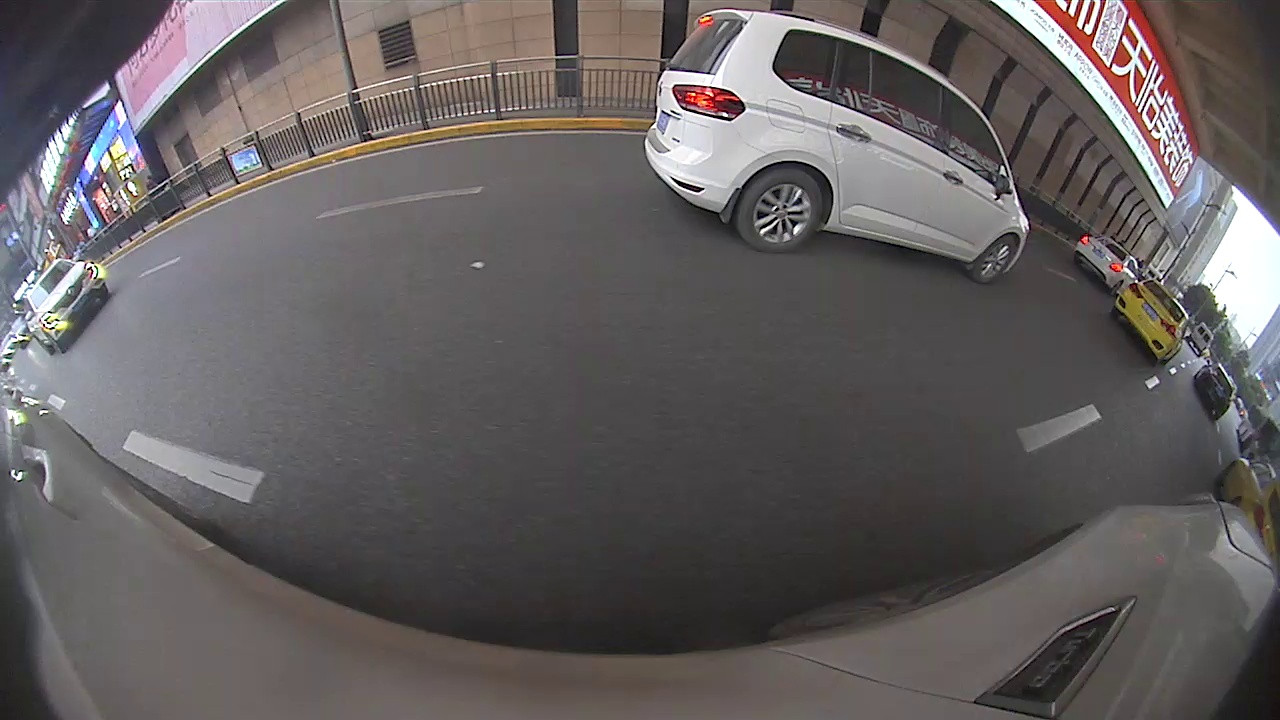car: (641, 6, 1031, 286), (18, 257, 110, 355), (1108, 278, 1189, 364), (1073, 233, 1142, 294), (1190, 357, 1238, 423)
front: (970, 237, 1021, 286)
rear: (734, 170, 830, 255)
